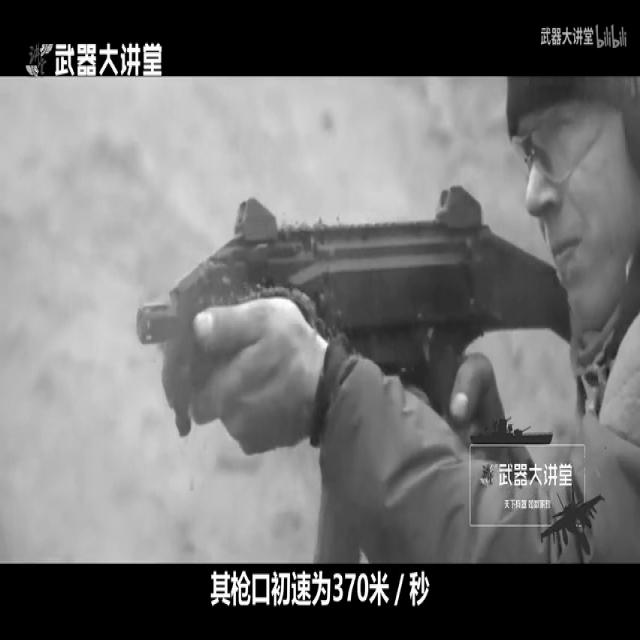Short-Gun: (119, 117, 630, 589)
